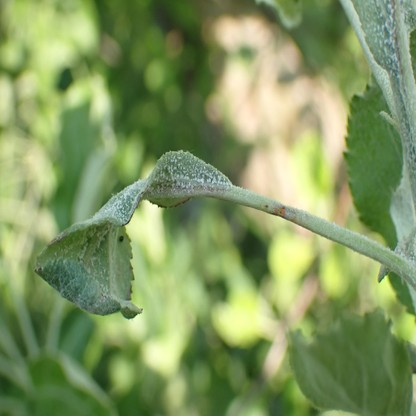powder: (33, 152, 233, 320), (366, 0, 416, 76)
